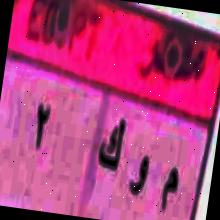2: (26, 96, 58, 157)
kaaf: (96, 108, 128, 184)
meem: (156, 154, 184, 216)
waw: (123, 143, 154, 210)
